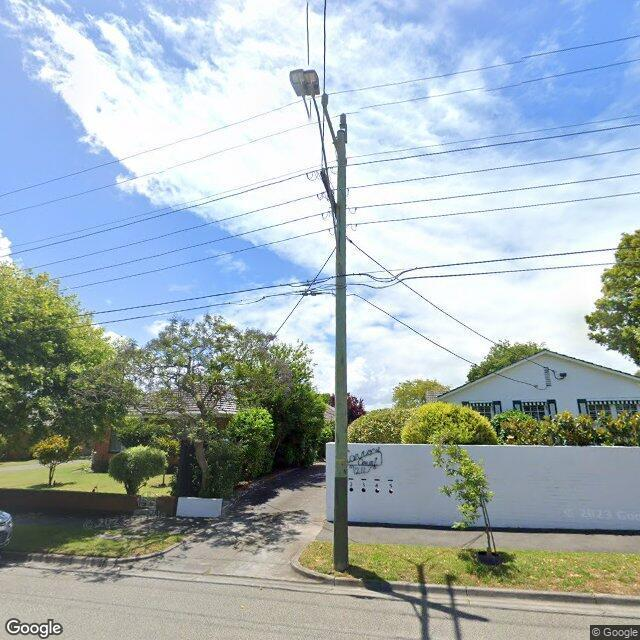HV-transmission: (322, 94, 346, 129)
crossarm: (323, 109, 347, 165), (320, 170, 336, 216)
streetlight: (290, 69, 328, 176)
timber-pole: (334, 130, 348, 573)
